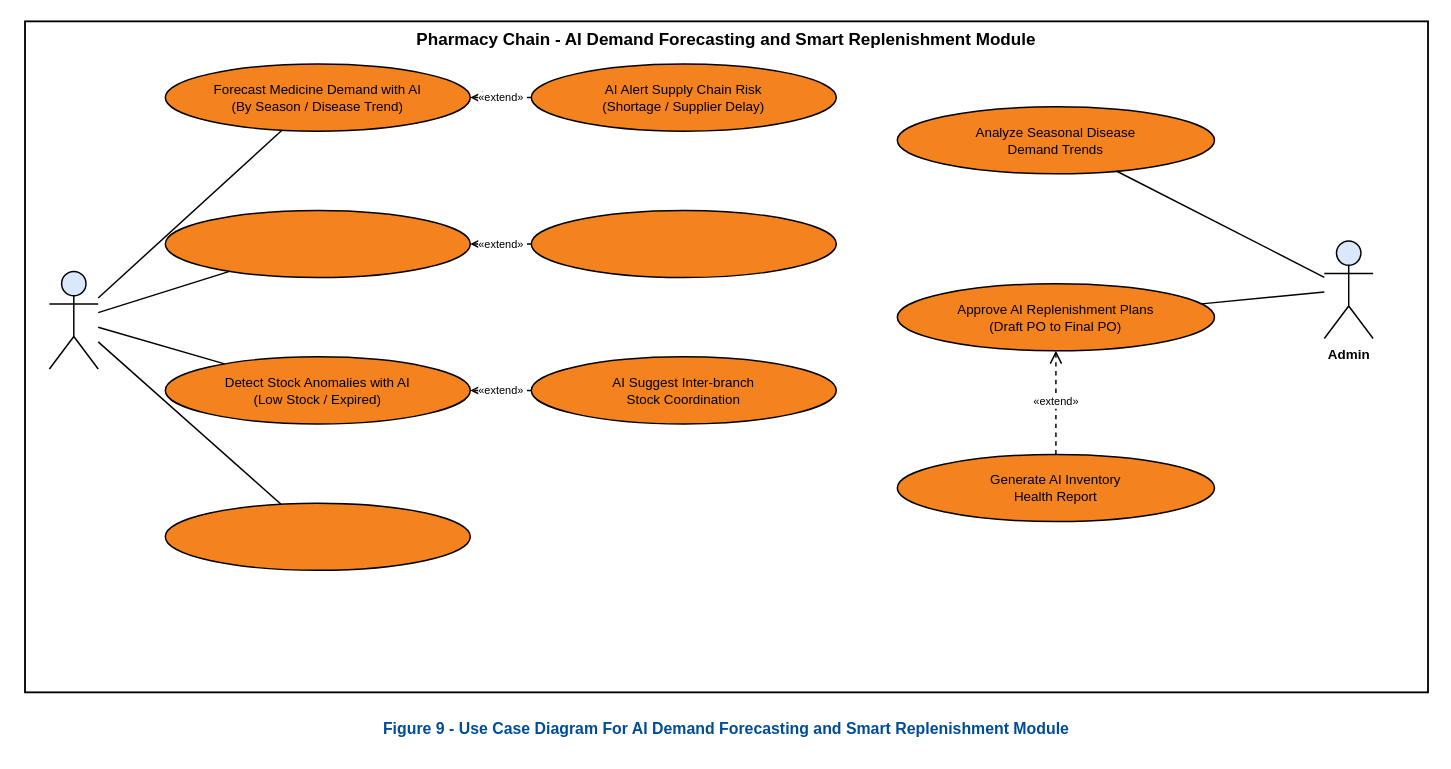
Some shapes in this 1451 by 769 pixel diagram are drawn without their labels. Each missing label, with the box of its shape:
AI Recommend Best-price Supplier for Replenishment: (530, 209, 836, 278)
Auto-generate Draft PO from AI Forecast: (164, 209, 470, 278)
Calculate Safety Stock Level per Branch: (164, 502, 470, 570)
Warehouse Staff: (48, 270, 98, 369)
